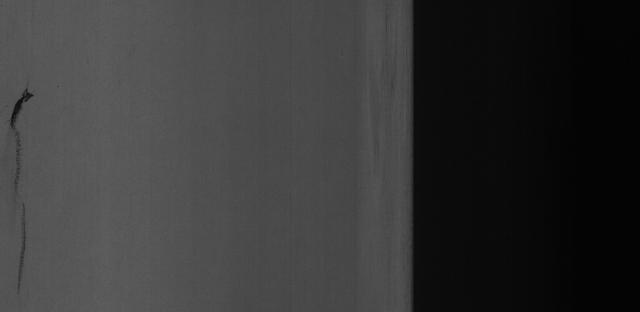inclusion: (2, 83, 41, 279)
